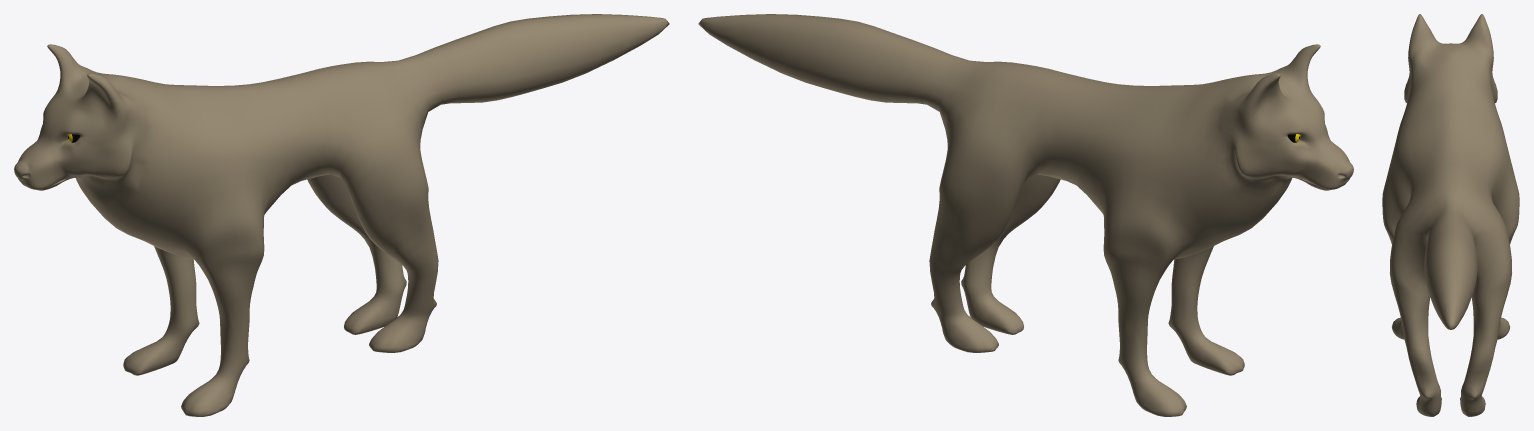
The model's file is wolf retopo.fbx.
The picture shows the model from 3 angles, left to right: view 1: azimuth 30°, elevation 25°; view 2: azimuth 150°, elevation 25°; view 3: azimuth 270°, elevation 25°; orthographic projection. The views are drawn at different scales.
Visible parts, largest first — view 1: Sphere; view 2: Sphere; view 3: Sphere.
Part boxes in pixels (x1=…): Sphere: x1=14, y1=14, x2=669, y2=416; Sphere: x1=698, y1=14, x2=1353, y2=416; Sphere: x1=1382, y1=14, x2=1519, y2=416.
Size of the model in its own units: 507 by 264 by 118.
